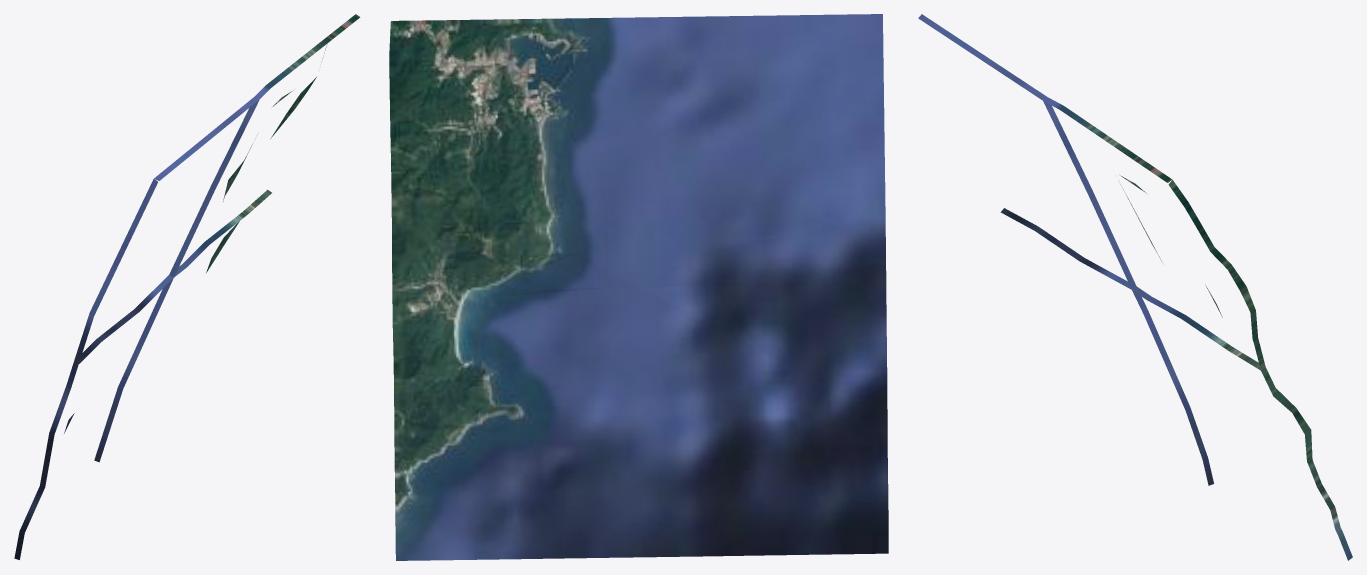
The picture shows the model from 3 angles, left to right: view 1: azimuth 30°, elevation 25°; view 2: azimuth 150°, elevation 25°; view 3: azimuth 270°, elevation 25°; orthographic projection. The views are drawn at different scales.
Bounding box in the file's own units: 18631 × 18760 × 16641.
1 material, 1 textured.
